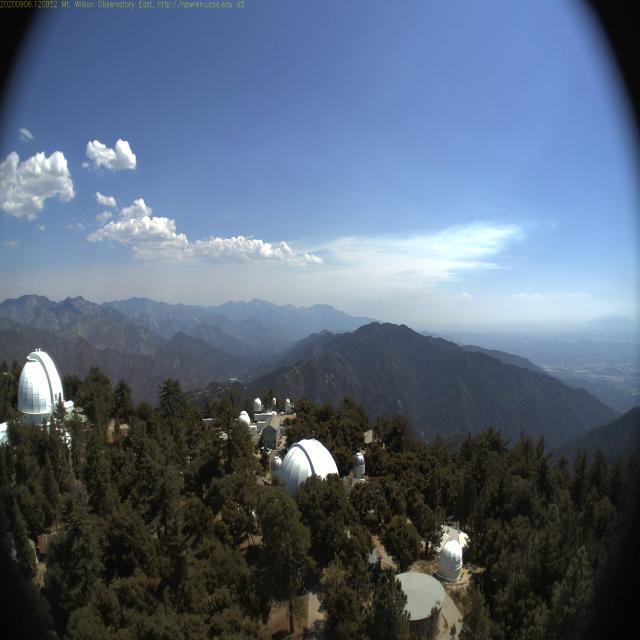smoke: (240, 370, 246, 376)
